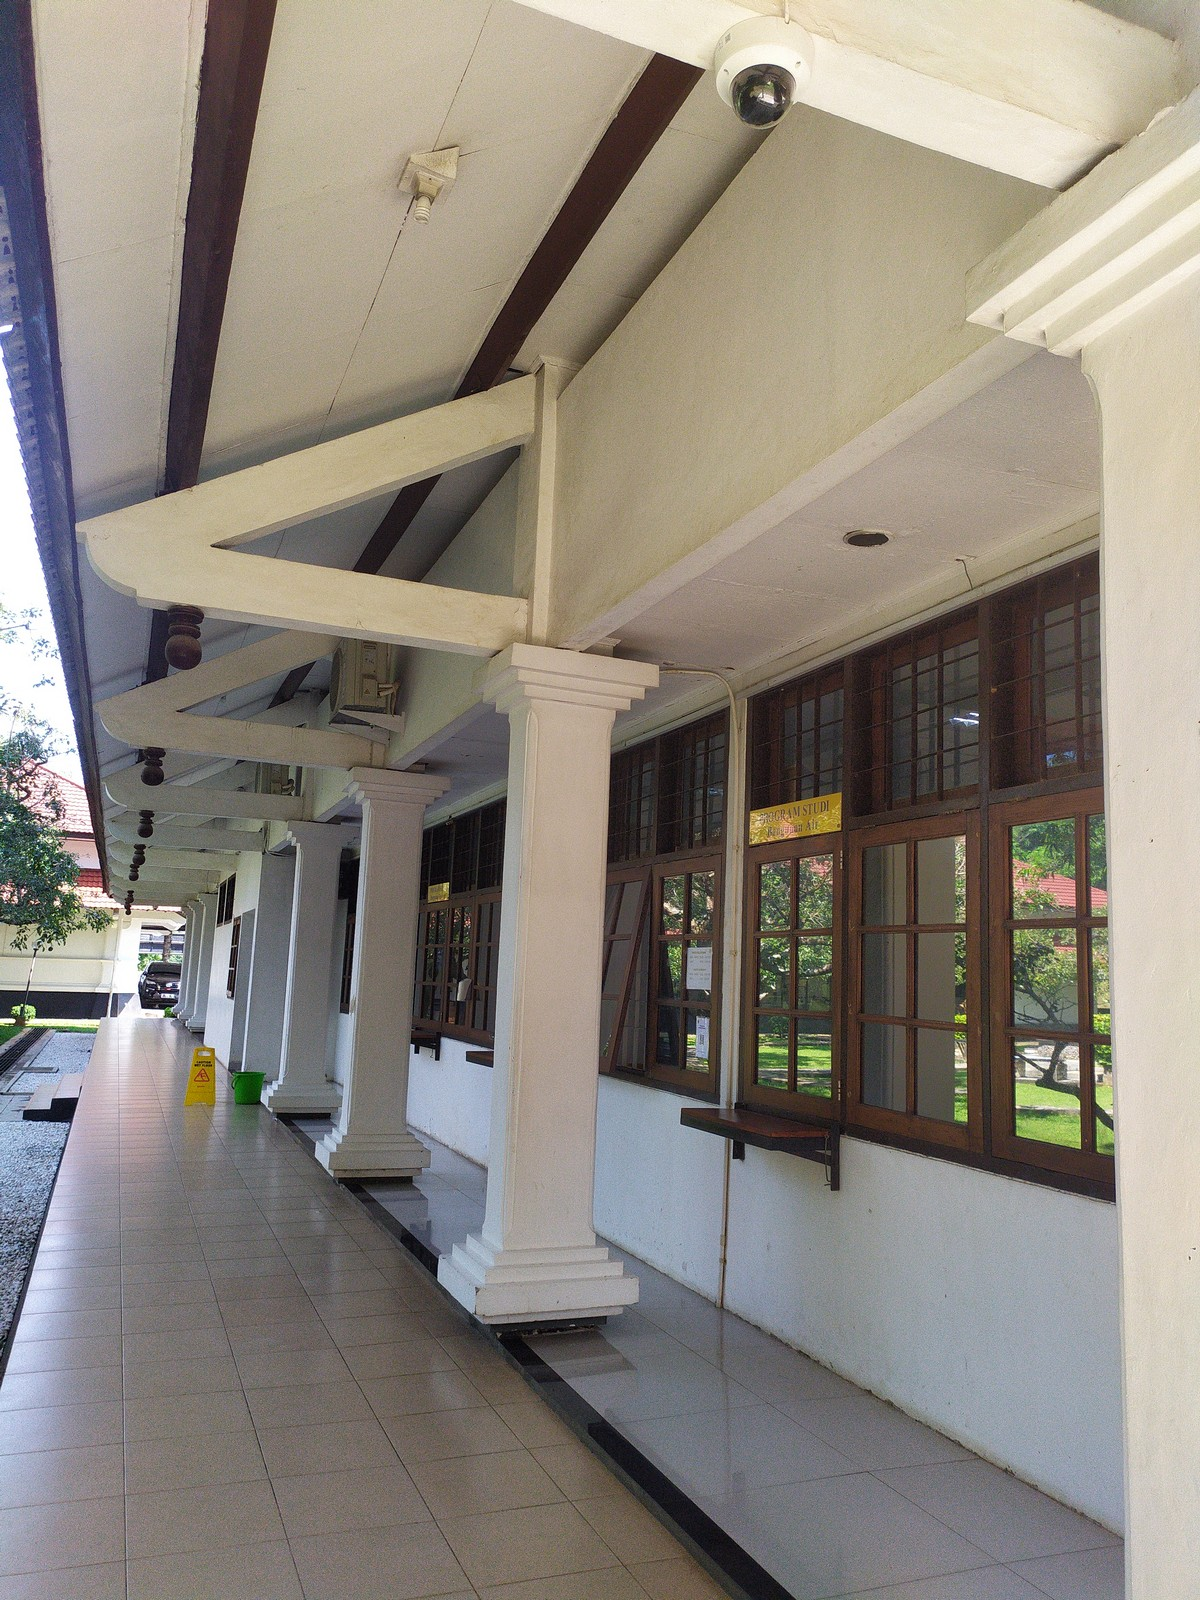concrete beam: (217, 546, 539, 669), (175, 716, 392, 779)
concrete column: (476, 700, 623, 1243), (342, 801, 430, 1139), (275, 848, 345, 1082)
